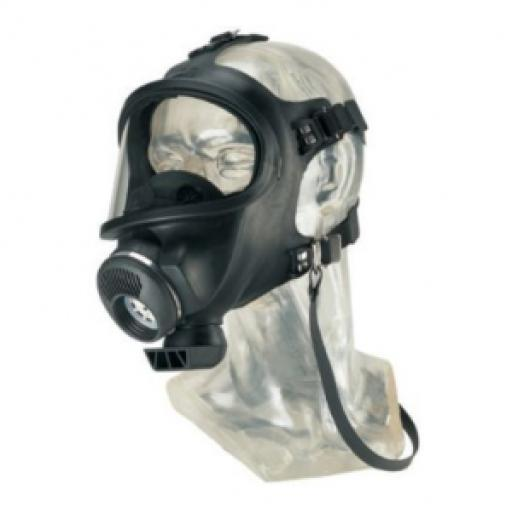mask: (77, 60, 311, 378)
